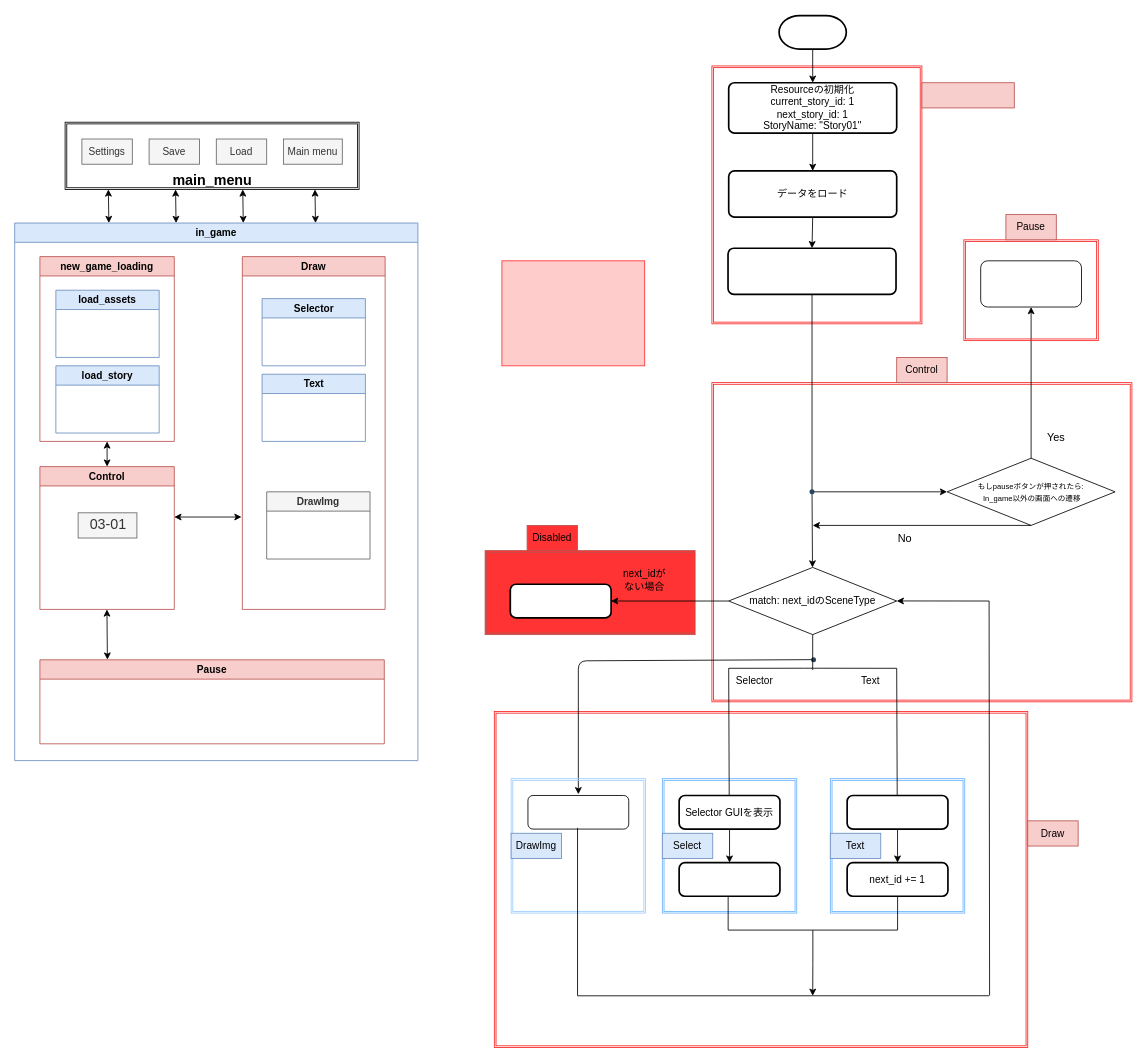
Some shapes in this 1147 by 1062 pixel diagram are drawn without their labels. Here are the shapes that lost their labels. From the top down, the centre of each, then its label:
At point (812, 32): "開始".
At point (967, 95): "NewGameLoading".
At point (811, 271): "背景、立ち絵、UIの描画".
At point (1031, 283): "画面遷移".
At point (573, 313): "StateやResourceは主に、 in_game.rsにある。".
At point (560, 600): "ゲームを終了 メインメニューへ".
At point (578, 812): "Idの背景、立ち絵を表示".
At point (897, 812): "Text GUIを表示".
At point (729, 879): "選択肢によって、next_idを設定".
